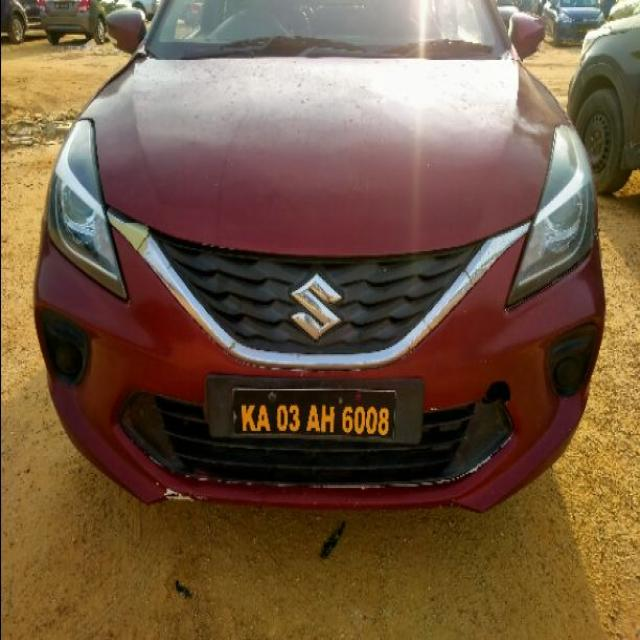license_plate: (228, 384, 397, 440)
